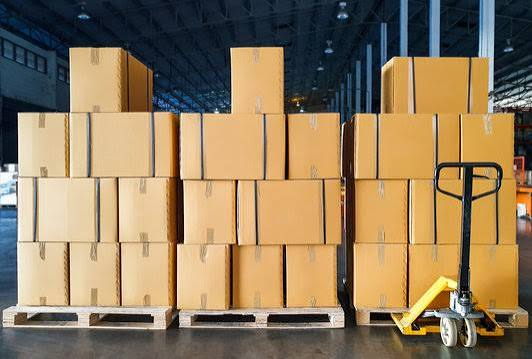box: (357, 244, 524, 306), (361, 179, 512, 244), (234, 181, 341, 244), (22, 178, 121, 244), (351, 115, 451, 179), (187, 109, 279, 178), (237, 246, 334, 305), (389, 58, 489, 114), (78, 119, 172, 177), (454, 112, 518, 178), (67, 53, 135, 111), (229, 43, 279, 114), (21, 112, 77, 174), (21, 244, 76, 304), (291, 114, 342, 178), (180, 178, 231, 242), (180, 241, 227, 307), (122, 177, 167, 245), (73, 239, 120, 304), (124, 241, 167, 302)
